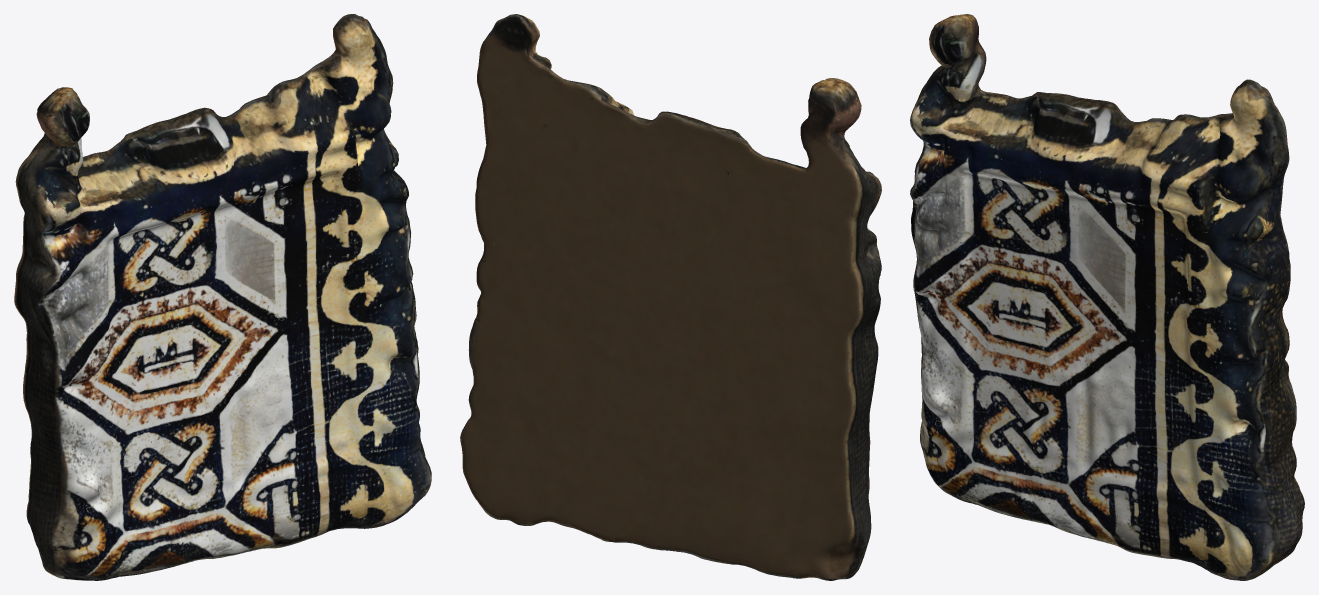
File: primary-compressed.glb
3 renders of one model, left to right at view 1: azimuth 30°, elevation 25°; view 2: azimuth 150°, elevation 25°; view 3: azimuth 330°, elevation 25°, orthographic. The views are drawn at different scales.
Size of the model in its own units: 1.66 by 2 by 0.2709.
Materials: 1 (1 with a texture image).
